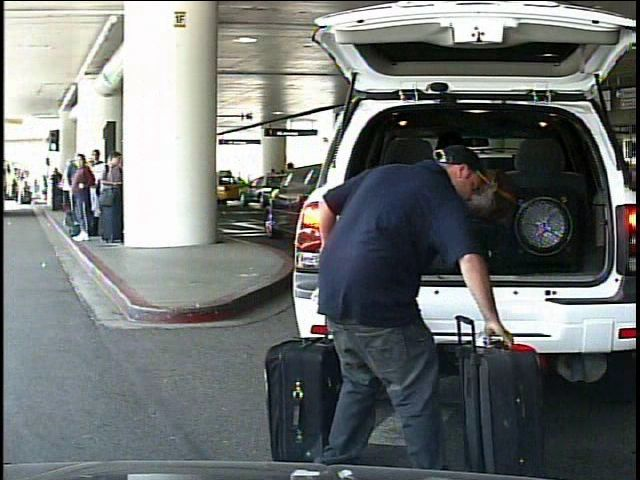person: (305, 108, 531, 480), (18, 176, 29, 207)
